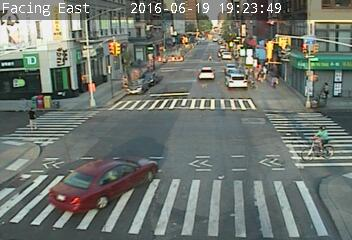neg: (80, 79, 103, 110), (304, 19, 315, 35)
pos: (22, 106, 41, 132), (319, 80, 335, 101)
